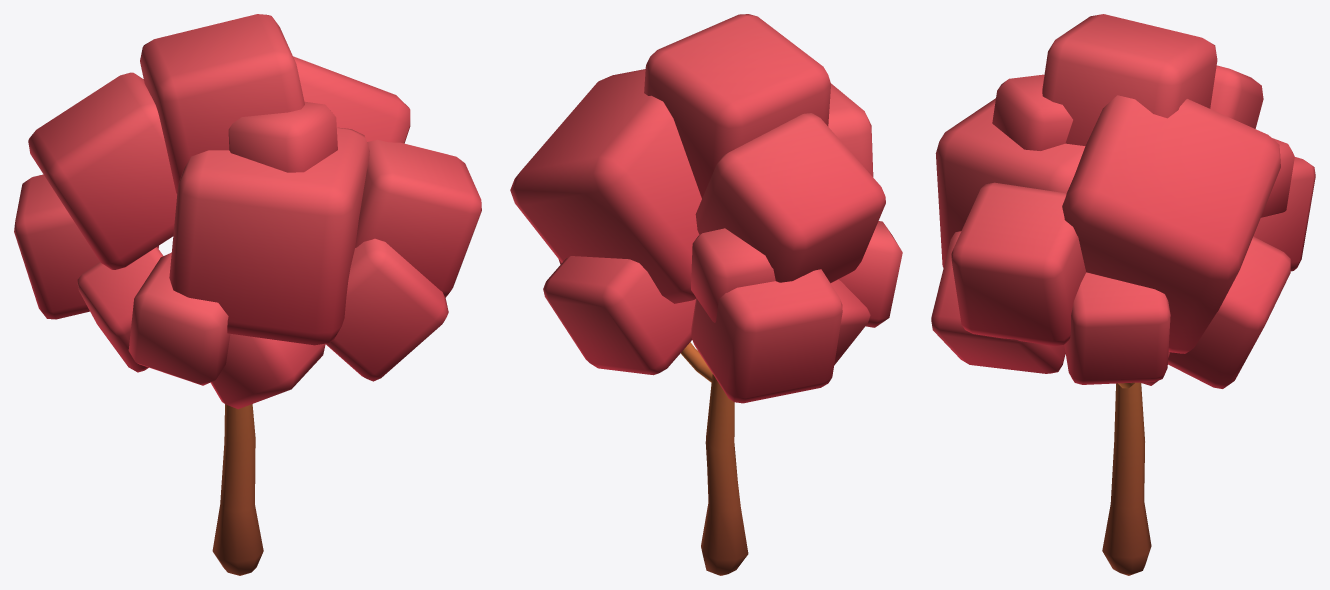
Rendered from Tree_2_E_Color7.fbx.
The picture shows the model from 3 angles, left to right: view 1: azimuth 30°, elevation 25°; view 2: azimuth 150°, elevation 25°; view 3: azimuth 270°, elevation 25°; orthographic projection.
Parts seen in each view (by area): view 1: Tree_2_E_Color7; view 2: Tree_2_E_Color7; view 3: Tree_2_E_Color7.
Boxes of the visible parts, x1,y1,x2,y2 form: Tree_2_E_Color7: [14, 14, 481, 575]; Tree_2_E_Color7: [510, 14, 902, 575]; Tree_2_E_Color7: [931, 14, 1315, 575].
Bounding box in the file's own units: 6.05 × 8.79 × 5.68.
